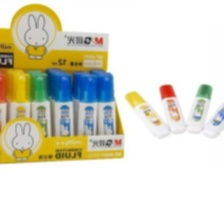correction_fluid: (124, 90, 172, 139), (28, 72, 55, 155), (50, 71, 76, 157), (74, 73, 100, 155), (7, 71, 32, 156), (92, 71, 117, 156), (184, 82, 215, 136), (156, 82, 187, 135), (201, 94, 223, 141), (0, 73, 8, 156)
